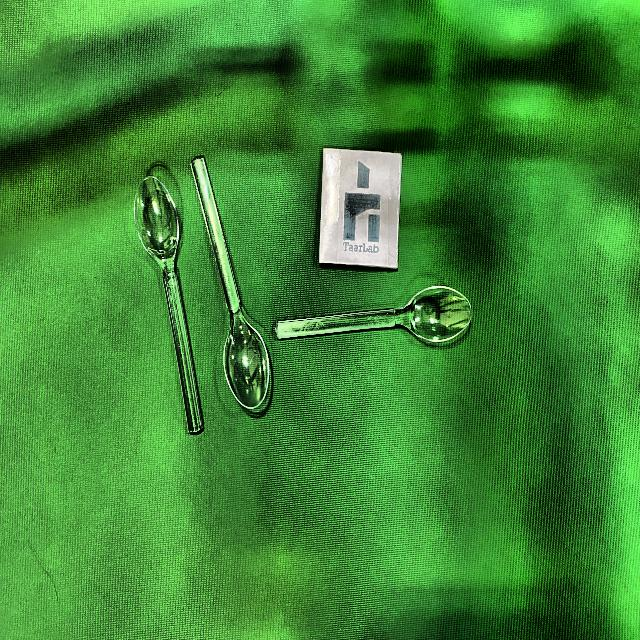plastic utensil: (189, 152, 268, 415), (132, 175, 204, 432), (273, 283, 469, 343)
